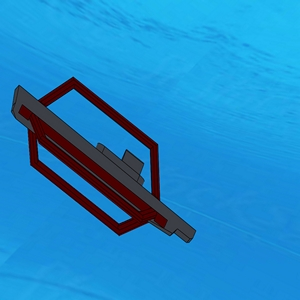submarine: (27, 82, 174, 246)
